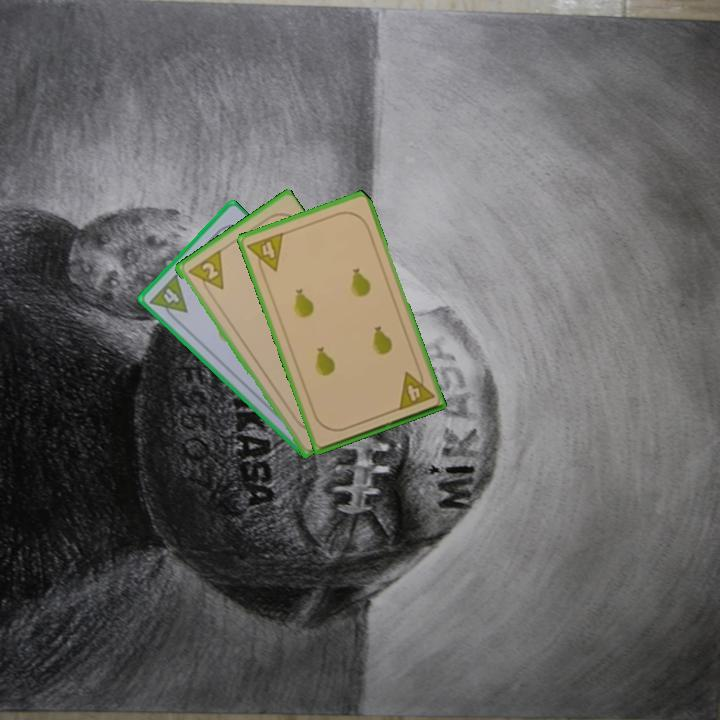2p: (184, 247, 227, 299)
4p: (146, 271, 190, 325), (244, 229, 287, 278), (394, 365, 437, 413)
